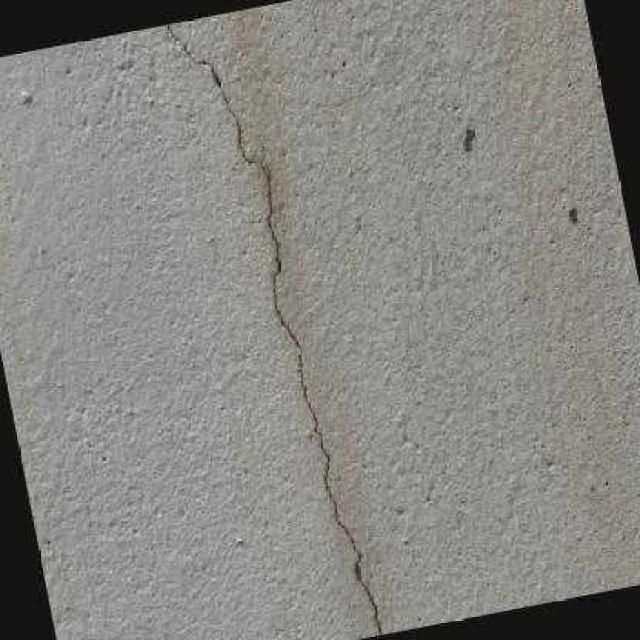D00: (168, 23, 388, 635)
